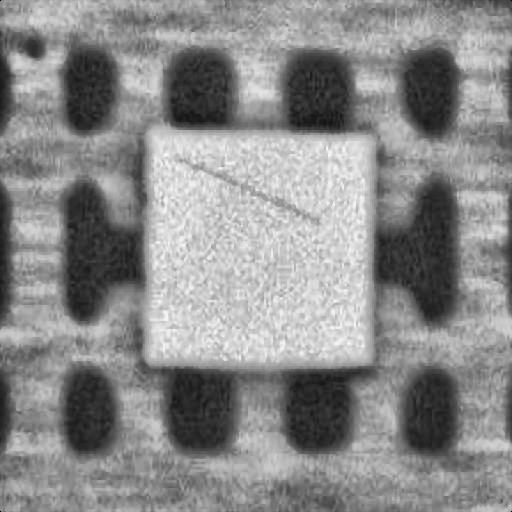DIE_CRACK: (260, 103, 472, 145)
